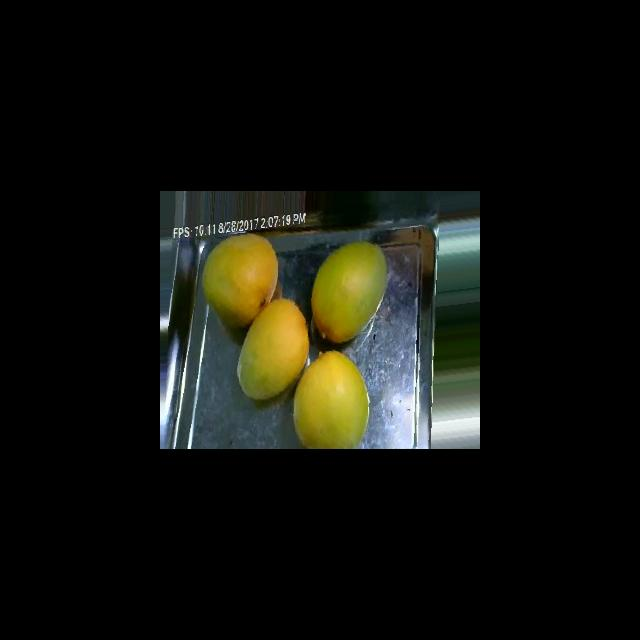mango: (310, 241, 388, 343), (292, 349, 369, 448), (236, 297, 309, 400), (201, 232, 278, 329)
